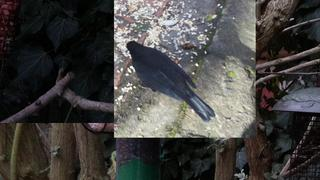blackbird: (126, 40, 216, 122)
